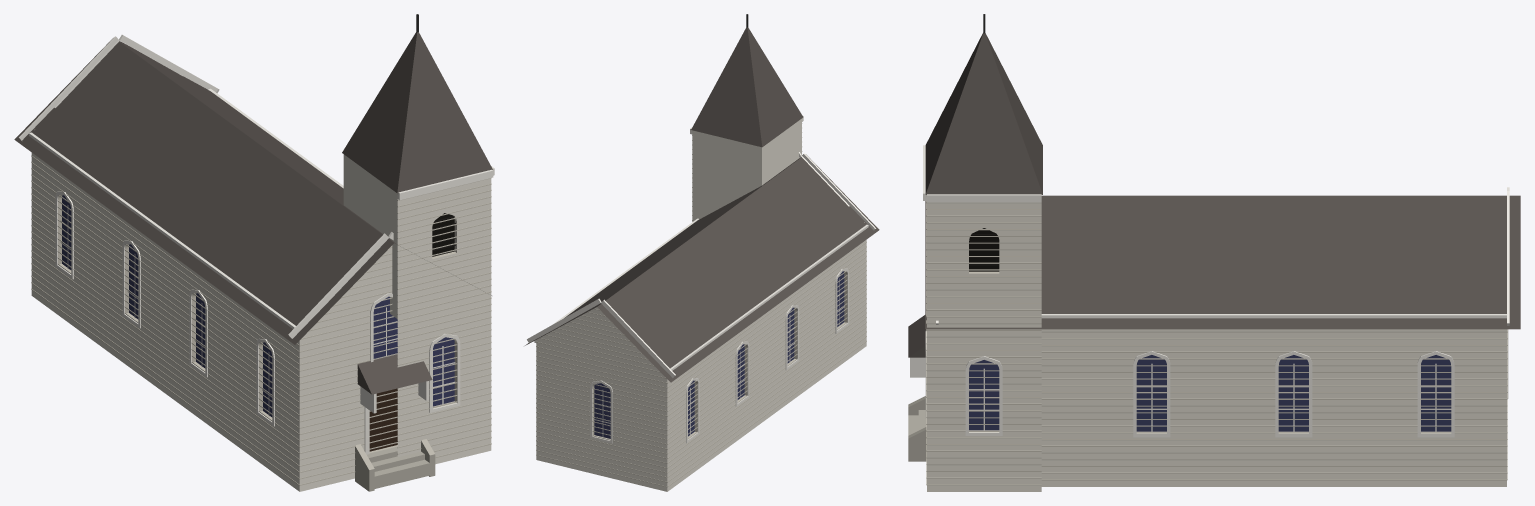
Rendered from ch-central-presbyterian-1913.glb.
The picture shows the model from 3 angles, left to right: view 1: azimuth 30°, elevation 25°; view 2: azimuth 150°, elevation 25°; view 3: azimuth 270°, elevation 25°; orthographic projection. The views are drawn at different scales.
Visible parts, largest first — view 1: ch_brick, ch_roof, ch_brick2, ch_roof2, ch_trim, ch_stain, ch_conc, ch_door, ch_shadow; view 2: ch_brick, ch_roof, ch_brick2, ch_roof2, ch_trim, ch_stain; view 3: ch_brick, ch_roof, ch_brick2, ch_roof2, ch_trim, ch_stain, ch_conc, ch_shadow.
Part boxes in pixels (x1,y1,x2,y2): ch_brick: (31,153,491,491); ch_roof: (14,38,491,344); ch_brick2: (31,129,491,485); ch_roof2: (342,32,492,394); ch_trim: (19,34,494,454); ch_stain: (62,195,454,417); ch_conc: (355,439,435,491); ch_door: (369,388,397,451); ch_shadow: (432,213,454,256); ch_brick: (536,118,866,491); ch_roof: (525,154,879,382); ch_brick2: (536,118,866,487); ch_roof2: (691,27,803,147); ch_trim: (527,116,875,443); ch_stain: (594,271,844,438); ch_brick: (927,203,1506,491); ch_roof: (925,195,1520,329); ch_brick2: (926,195,1507,485); ch_roof2: (908,33,1042,357); ch_trim: (910,145,1509,437); ch_stain: (969,355,1451,431); ch_conc: (908,396,926,461); ch_shadow: (969,228,999,271).
Size of the model in its own units: 7.3 by 14.95 by 18.17.
